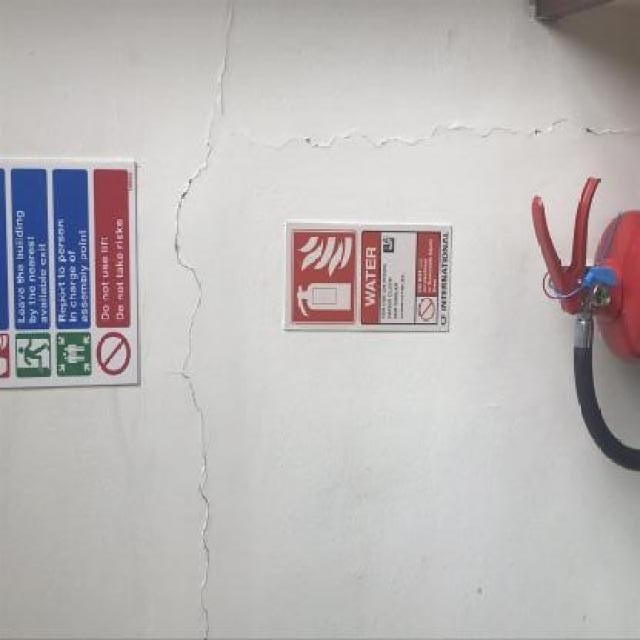fire extinguisher: (529, 178, 640, 474)
